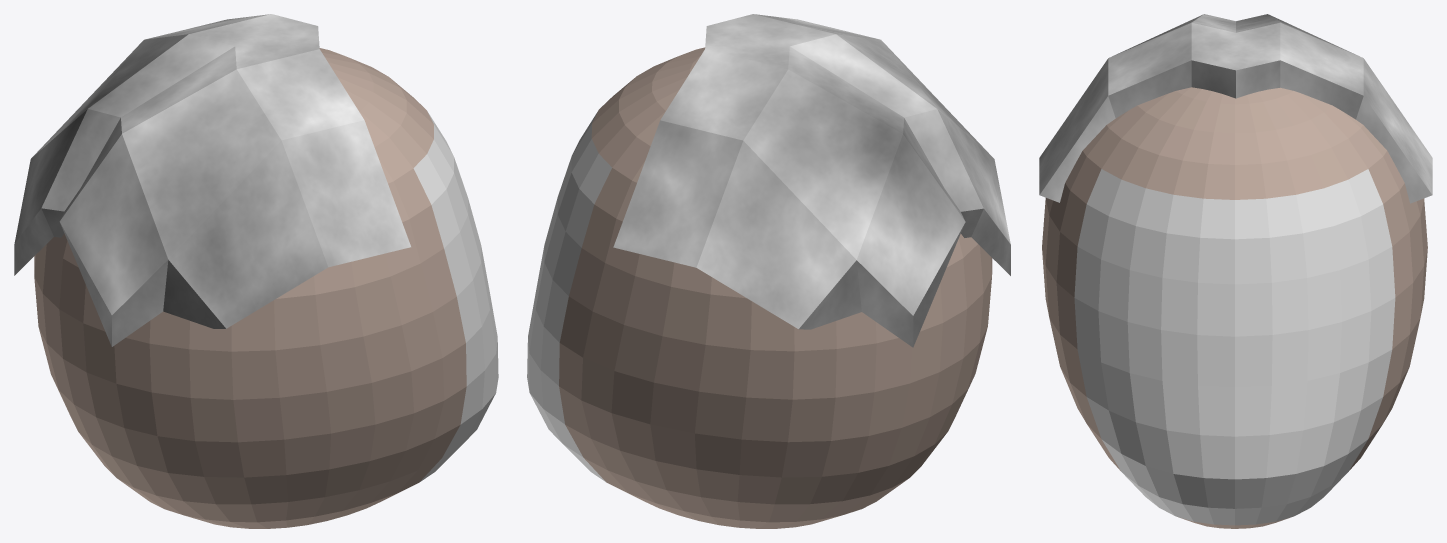
The model's file is BidenHead.fbx.
3 views of the same model, side by side, from view 1: azimuth 30°, elevation 25°; view 2: azimuth 150°, elevation 25°; view 3: azimuth 270°, elevation 25° (orthographic). The views are drawn at different scales.
Parts seen in each view (by area): view 1: Biden2; view 2: Biden2; view 3: Biden2.
Boxes of the visible parts, x1=… form: Biden2: x1=14, y1=14, x2=498, y2=528; Biden2: x1=527, y1=14, x2=1010, y2=528; Biden2: x1=1039, y1=14, x2=1432, y2=528.
Size of the model in its own units: 97.15 by 113 by 120.
